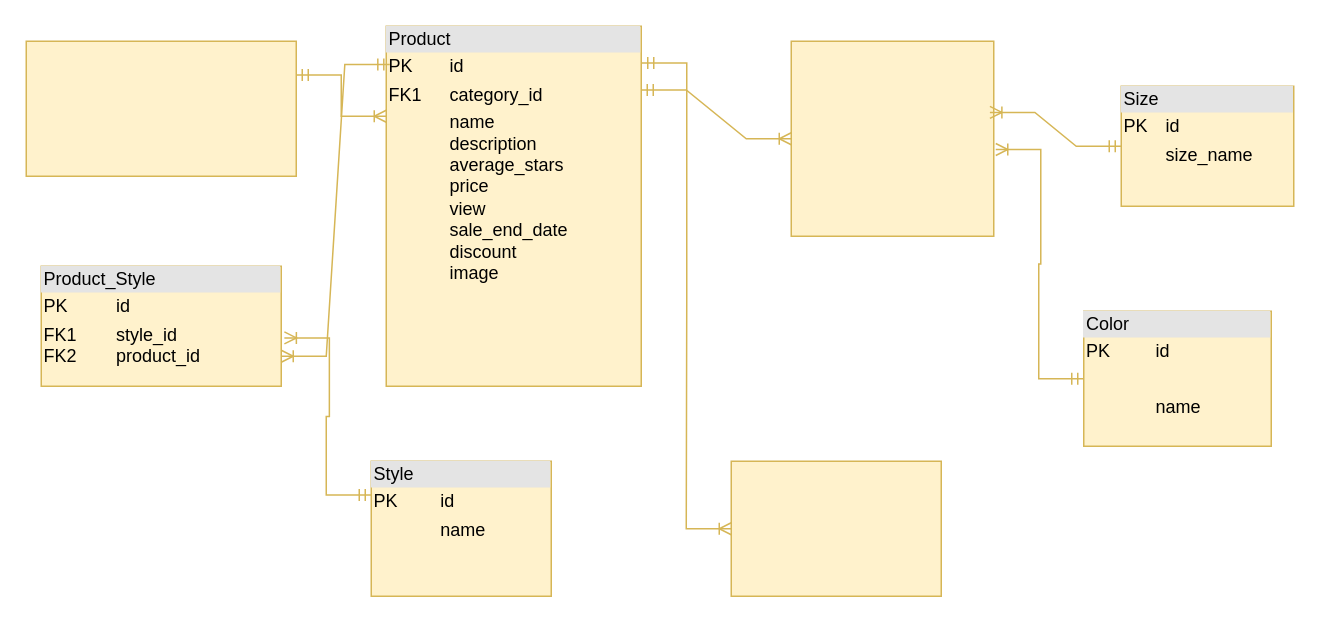
This 1320x623 diagram has some shape labels left out. Each missing label, with the centre of its shape:
"Category PK id name" belongs at pixel 160 108.
"Product_Image PK id FK1 product_id image_url" belongs at pixel 835 528.
"Product_Size_Color PK id FK1 FK2 FK3 size_id product_id color_id quantity" belongs at pixel 892 138.
